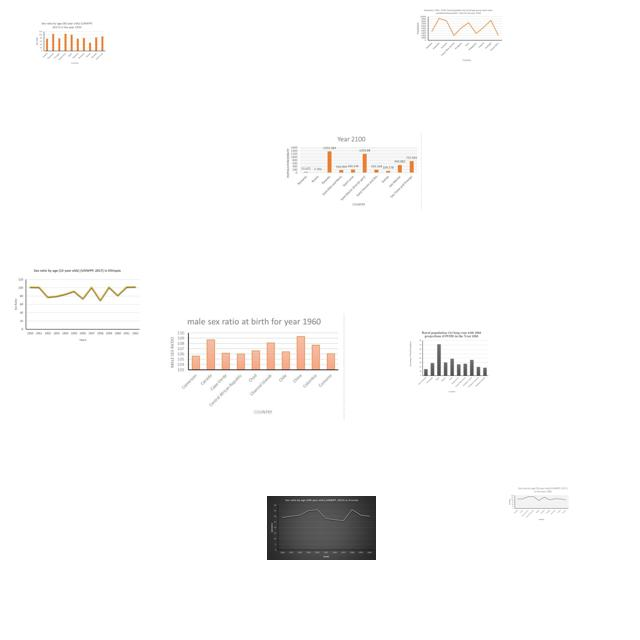Graph: (165, 313, 345, 420), (10, 265, 147, 345), (282, 132, 422, 210), (267, 496, 376, 560), (408, 331, 489, 393), (414, 8, 504, 62), (34, 20, 107, 66), (507, 486, 570, 521)
